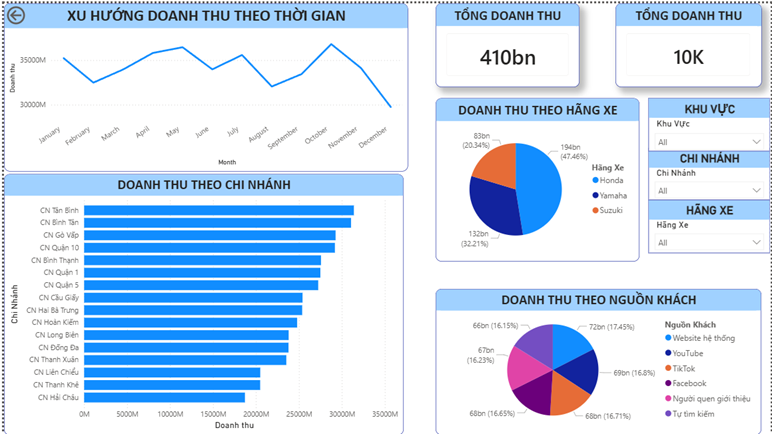

The dashboard page shown, as its layout file describes it:
{"tool":"powerbi","page":{"name":"TỔNG QUAN","canvas":[1280,720],"ordinal":0},"visuals":[{"type":"cardVisual","title":"TỔNG DOANH THU","fields":{"Data":["Sum(he_thong_xe_may_KHB.Tổng Cộng)"]},"box":[720.4,0,240.1,140.2],"z":0},{"type":"lineChart","title":"XU HƯỚNG DOANH THU THEO THỜI GIAN","fields":{"Y":["Sum(he_thong_xe_may_KHB.Tổng Cộng)"],"Category":["he_thong_xe_may_KHB.Ngày.Variation.Date Hierarchy.Month"]},"box":[0,0,674.3,280.5],"z":1000},{"type":"clusteredBarChart","title":"DOANH THU THEO CHI NHÁNH","fields":{"Category":["he_thong_xe_may_KHB.Chi Nhánh"],"Y":["Sum(he_thong_xe_may_KHB.Tổng Cộng)"]},"box":[0,284.3,666.6,436.1],"z":2000},{"type":"pieChart","title":"DOANH THU THEO NGUỒN KHÁCH","fields":{"Category":["he_thong_xe_may_KHB.Nguồn Khách"],"Y":["Sum(he_thong_xe_may_KHB.Tổng Cộng)"]},"box":[720.4,476.4,543.6,244],"z":3000},{"type":"actionButton","box":[0,0,100,40],"z":4000},{"type":"slicer","title":"CHI NHÁNH","fields":{"Values":["he_thong_xe_may_KHB.Chi Nhánh"]},"box":[1075.7,242,203.6,86.4],"z":5000},{"type":"slicer","title":"HÃNG XE","fields":{"Values":["he_thong_xe_may_KHB.Hãng Xe"]},"box":[1075.7,328.5,203.6,88.4],"z":6000},{"type":"slicer","title":"KHU VỰC","fields":{"Values":["he_thong_xe_may_KHB.Khu Vực"]},"box":[1075.7,157.5,203.6,88.4],"z":7000},{"type":"cardVisual","title":"TỔNG DOANH THU","fields":{"Data":["Count(he_thong_xe_may_KHB.ID Giao Dịch)"]},"box":[1020,0,244,140.2],"z":7001},{"type":"pieChart","title":"DOANH THU THEO HÃNG XE","fields":{"Category":["he_thong_xe_may_KHB.Hãng Xe"],"Y":["Sum(he_thong_xe_may_KHB.Tổng Cộng)"]},"box":[720.4,157.5,340,272.8],"z":7002}]}

Visuals, with their boxes in screenshot pixels (x1, y1, x2, y2), scaled from the page's 1280x720 canvas onto the 772x434 screenshot:
"TỔNG DOANH THU" cardVisual: Rect(434, 0, 579, 85)
"XU HƯỚNG DOANH THU THEO THỜI GIAN" lineChart: Rect(0, 0, 407, 169)
"DOANH THU THEO CHI NHÁNH" clusteredBarChart: Rect(0, 171, 402, 433)
"DOANH THU THEO NGUỒN KHÁCH" pieChart: Rect(434, 287, 762, 433)
actionButton: Rect(0, 0, 60, 24)
"CHI NHÁNH" slicer: Rect(649, 146, 771, 198)
"HÃNG XE" slicer: Rect(649, 198, 771, 251)
"KHU VỰC" slicer: Rect(649, 95, 771, 148)
"TỔNG DOANH THU" cardVisual: Rect(615, 0, 762, 85)
"DOANH THU THEO HÃNG XE" pieChart: Rect(434, 95, 640, 259)
